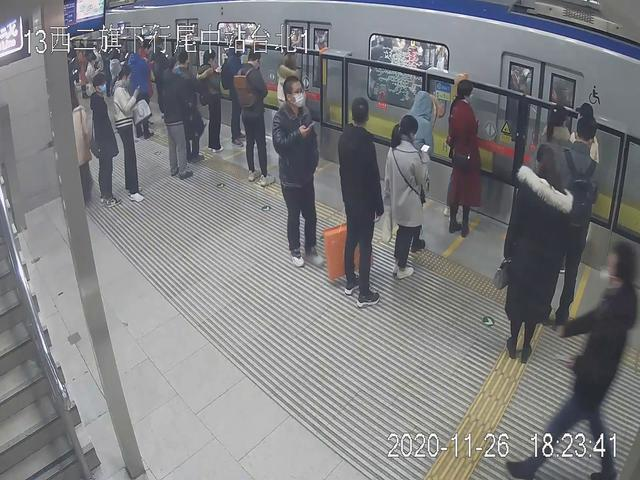person: (514, 238, 640, 480), (506, 145, 560, 361), (540, 116, 592, 329), (274, 74, 323, 268), (339, 95, 380, 305), (387, 112, 426, 279), (448, 74, 486, 238), (403, 88, 437, 257), (236, 48, 273, 187), (85, 72, 123, 207), (117, 64, 147, 203), (160, 56, 193, 179), (197, 47, 225, 156)
